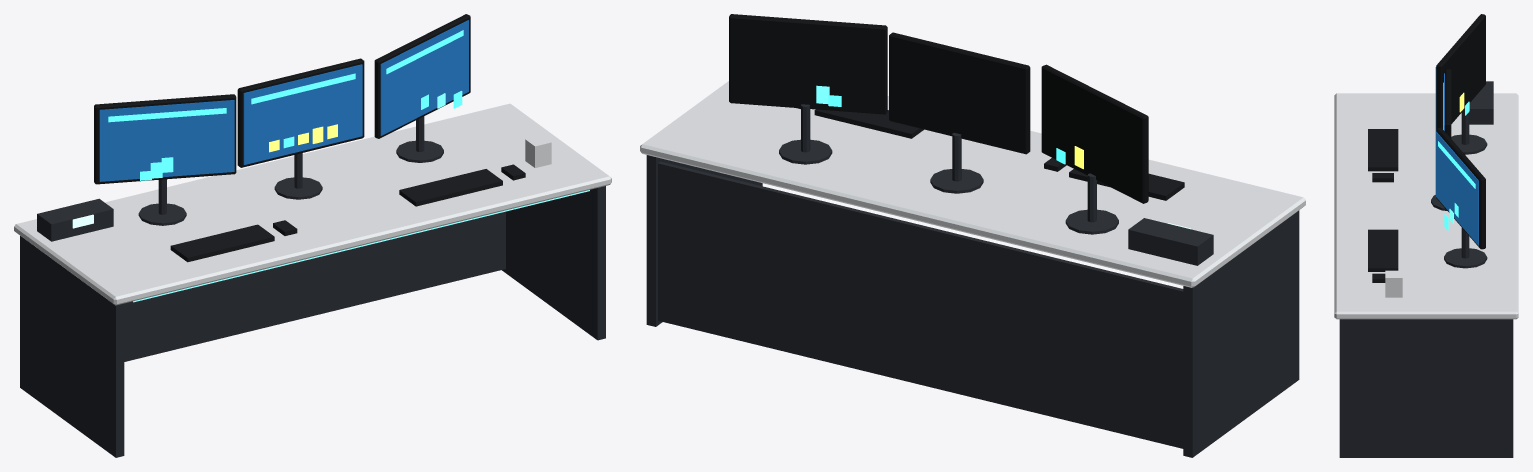
Rendered from 35_NOC_Desk_3_Monitors.fbx.
3 renders of one model, left to right at view 1: azimuth 30°, elevation 25°; view 2: azimuth 150°, elevation 25°; view 3: azimuth 270°, elevation 25°, orthographic. The views are drawn at different scales.
Visible parts, largest first — view 1: 35_NOC_Desk_3_Monitors; view 2: 35_NOC_Desk_3_Monitors; view 3: 35_NOC_Desk_3_Monitors.
Part boxes in pixels (x1=…): 35_NOC_Desk_3_Monitors: x1=14, y1=14, x2=611, y2=457; 35_NOC_Desk_3_Monitors: x1=640, y1=14, x2=1305, y2=457; 35_NOC_Desk_3_Monitors: x1=1334, y1=14, x2=1518, y2=457.
Size of the model in its own units: 2.4 by 1.29 by 0.85.
